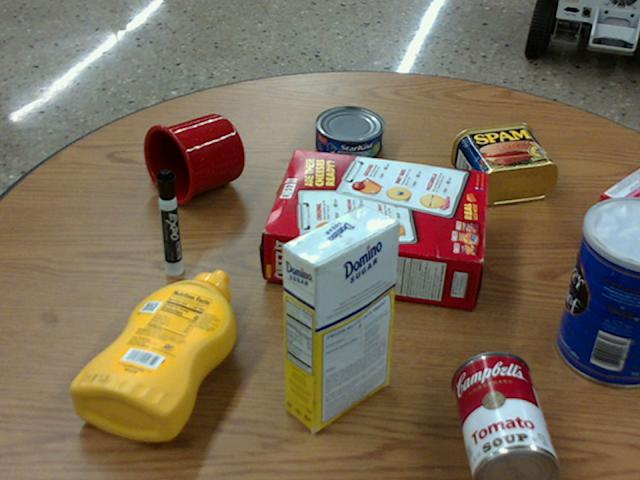cracker_box: (263, 149, 484, 305)
gelatin_box: (586, 167, 639, 258)
large_marker: (156, 168, 181, 274)
master_chef_can: (556, 197, 639, 386)
mug: (143, 113, 244, 205)
mustard_bottle: (72, 269, 235, 439)
potted_meat_can: (451, 123, 557, 202)
sugar_box: (282, 206, 399, 429)
tomato_soup_can: (452, 350, 559, 479)
tuna_fish_can: (316, 105, 384, 161)
